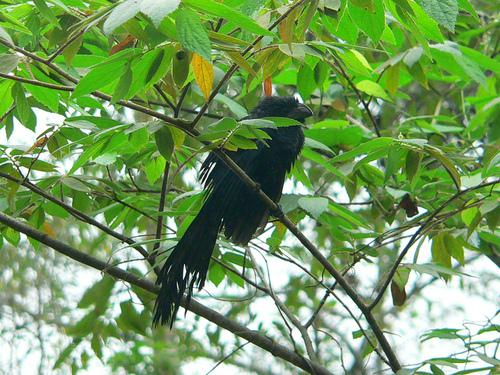004.Groove_billed_Ani: (153, 95, 317, 333)
